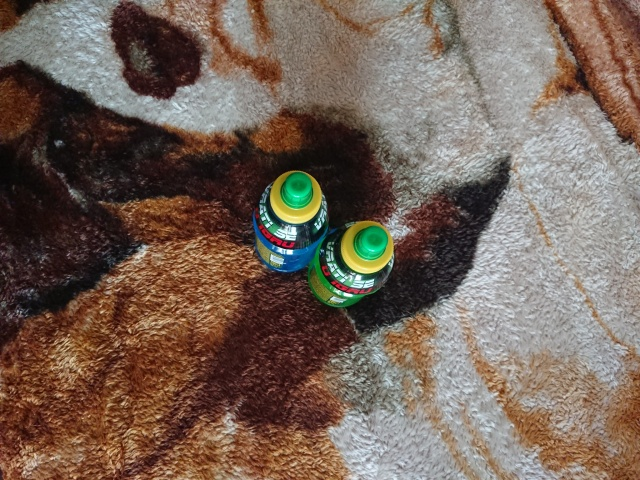Vindi Iso Sport Forest Strawberries 500mL: (251, 167, 331, 275)
Vindi Iso Sport Lemon-Grapefruit 500mL: (305, 218, 396, 310)
